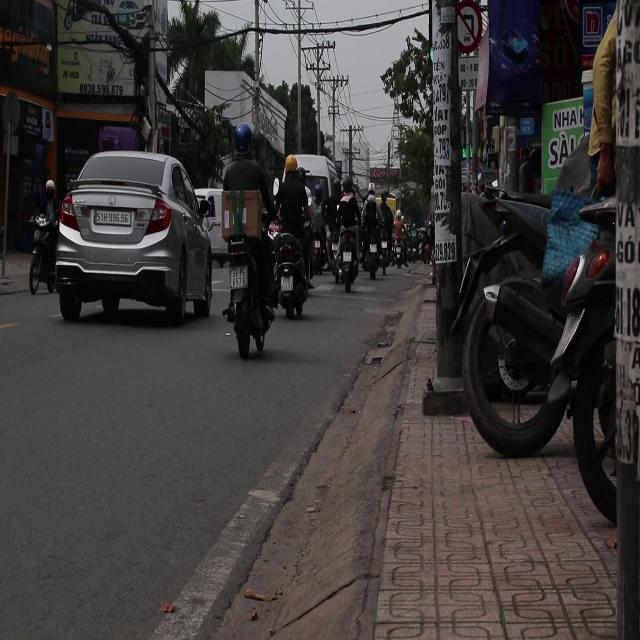car: (53, 149, 216, 326), (281, 141, 346, 266)
motorbike: (216, 201, 278, 362), (18, 174, 58, 298), (270, 228, 312, 318), (332, 230, 361, 293), (364, 200, 381, 284)
